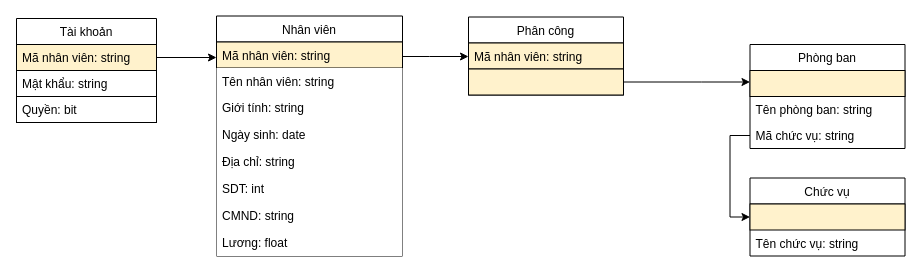
Some shapes in this 921 by 272 pixel diagram are drawn without their labels. Each missing label, with the centre of its shape:
"Mã chức vụ·: string" belongs at (827,216).
"Mã phòng ban: string" belongs at (546,81).
"Mã phòng ban·: string" belongs at (827,83).
